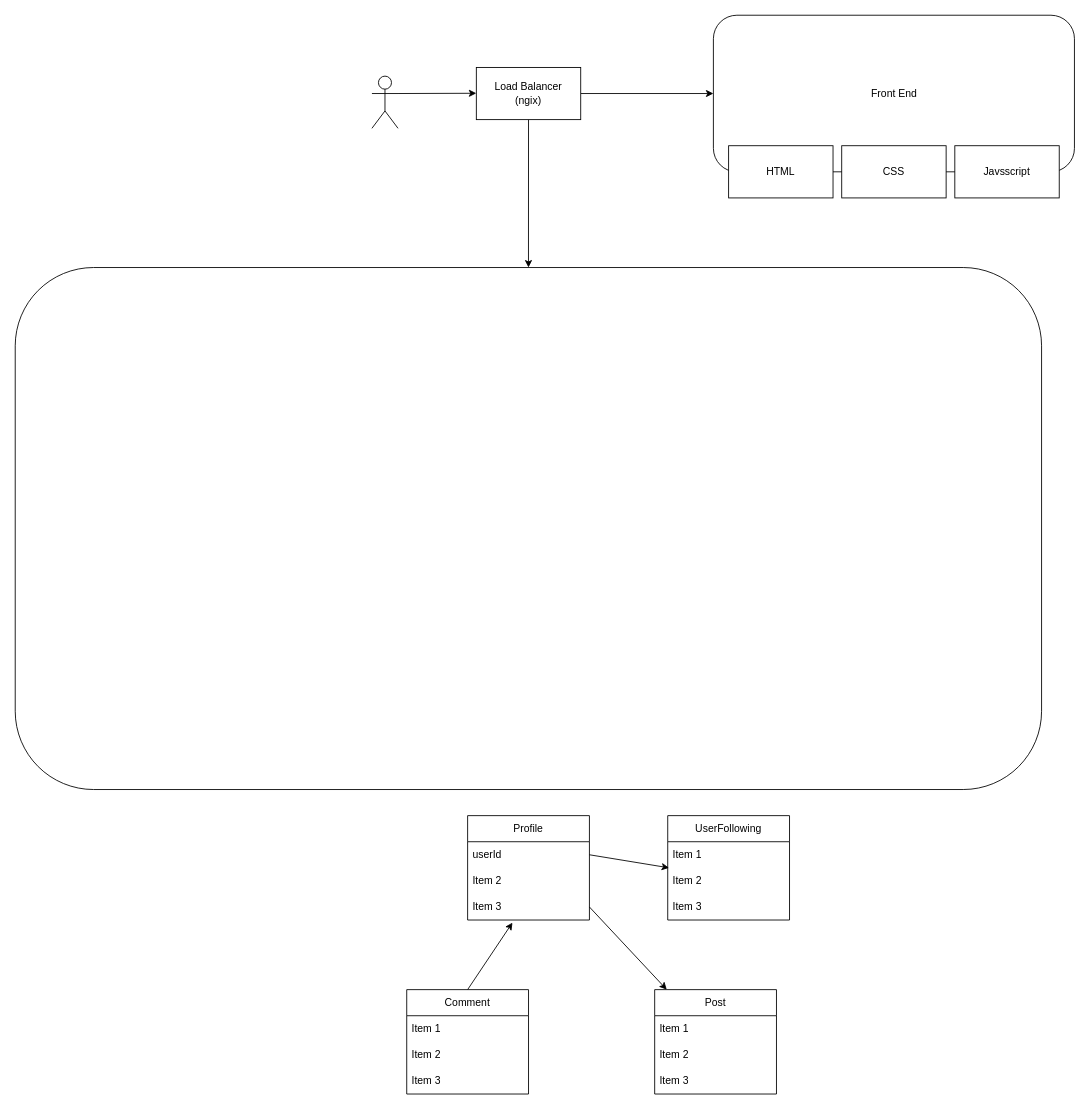
Image size: 1090x1109. Some labels were removed from this diagram. Here are the shapes that lost their labels. From the top down, the centre of each, then its label:
point (384, 101): User
point (528, 528): BackEnd
